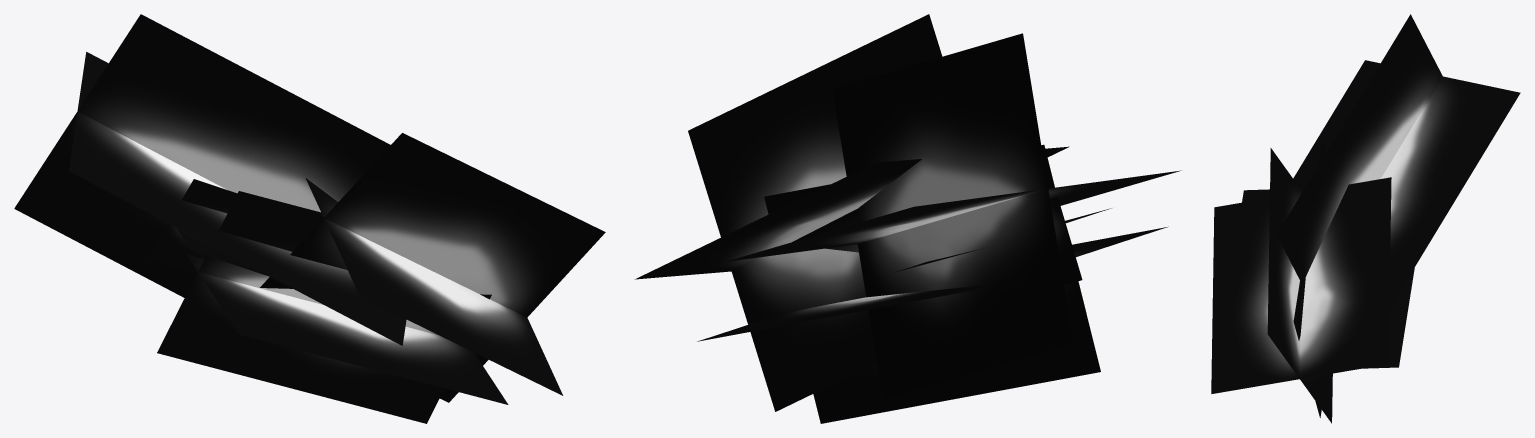
Rendered from effect #29053.fbx.
The picture shows the model from 3 angles, left to right: view 1: azimuth 30°, elevation 25°; view 2: azimuth 150°, elevation 25°; view 3: azimuth 270°, elevation 25°; orthographic projection. The views are drawn at different scales.
Visible parts, largest first — view 1: Glow_01, Glow_02, Glow_03, Glow_04; view 2: Glow_01, Glow_02, Glow_03, Glow_04; view 3: Glow_02, Glow_01, Glow_03.
Boxes of the visible parts, x1,y1,x2,y2 form: Glow_01: (14,14,406,345); Glow_02: (260,133,605,402); Glow_03: (157,191,508,423); Glow_04: (148,179,268,276); Glow_01: (725,33,1180,399); Glow_02: (634,14,1069,411); Glow_03: (697,144,1168,423); Glow_04: (893,167,1111,284); Glow_02: (1211,148,1391,423); Glow_01: (1276,14,1520,308); Glow_03: (1242,139,1414,417).
Size of the model in its own units: 1.83 by 1.55 by 1.36.
1 material, 1 textured.
